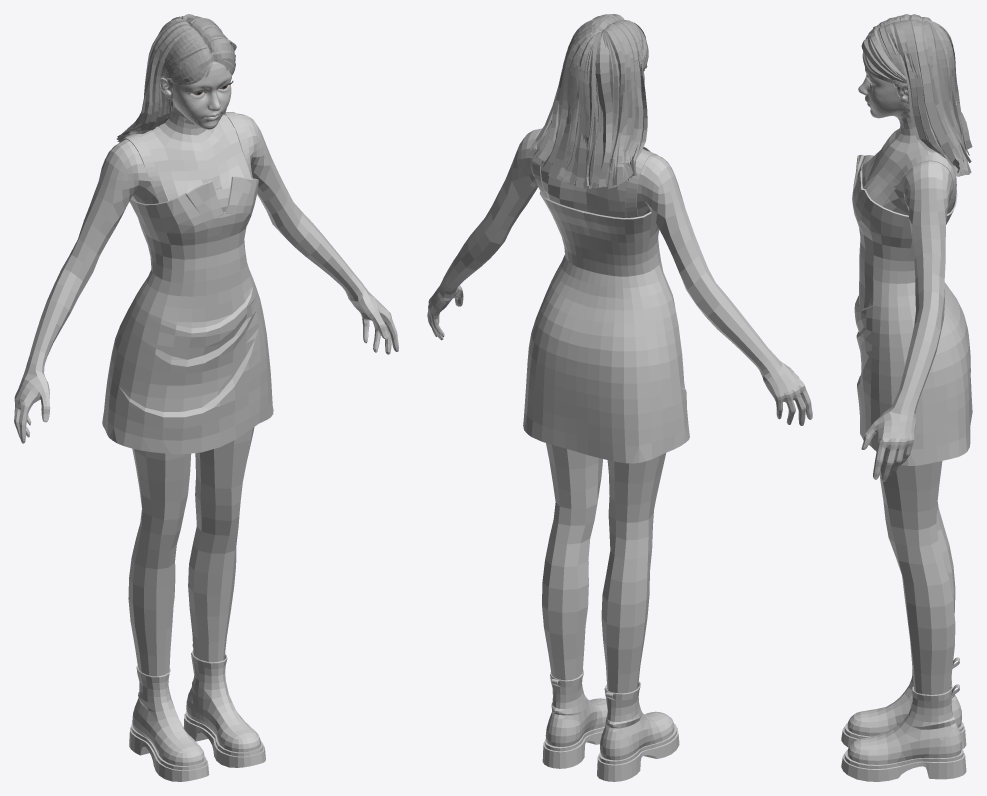
File: qianqian.fbx
The picture shows the model from 3 angles, left to right: view 1: azimuth 30°, elevation 25°; view 2: azimuth 150°, elevation 25°; view 3: azimuth 270°, elevation 25°; orthographic projection.
Visible parts, largest first — view 1: qianqian_clothes, qianqian_main, qianqian_hair; view 2: qianqian_clothes, qianqian_main, qianqian_hair; view 3: qianqian_clothes, qianqian_main, qianqian_hair.
Part boxes in pixels (x1,y1,x2,y2): qianqian_clothes: (102, 112, 273, 781); qianqian_main: (14, 62, 398, 676); qianqian_hair: (116, 14, 236, 142); qianqian_clothes: (523, 130, 689, 781); qianqian_main: (427, 70, 812, 693); qianqian_hair: (528, 14, 648, 188); qianqian_clothes: (841, 154, 972, 781); qianqian_main: (858, 67, 955, 694); qianqian_hair: (861, 14, 972, 176).
Size of the model in its own units: 90.7 by 168 by 27.07.
